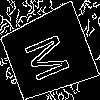M: (23, 28, 79, 84)
